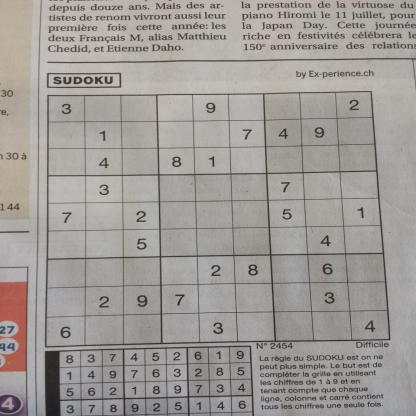sudoku: (44, 88, 394, 349)
